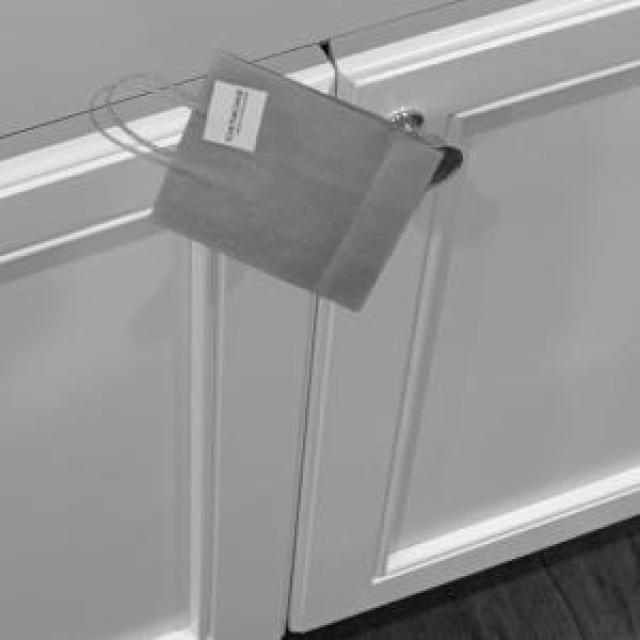paper: (107, 47, 438, 307)
